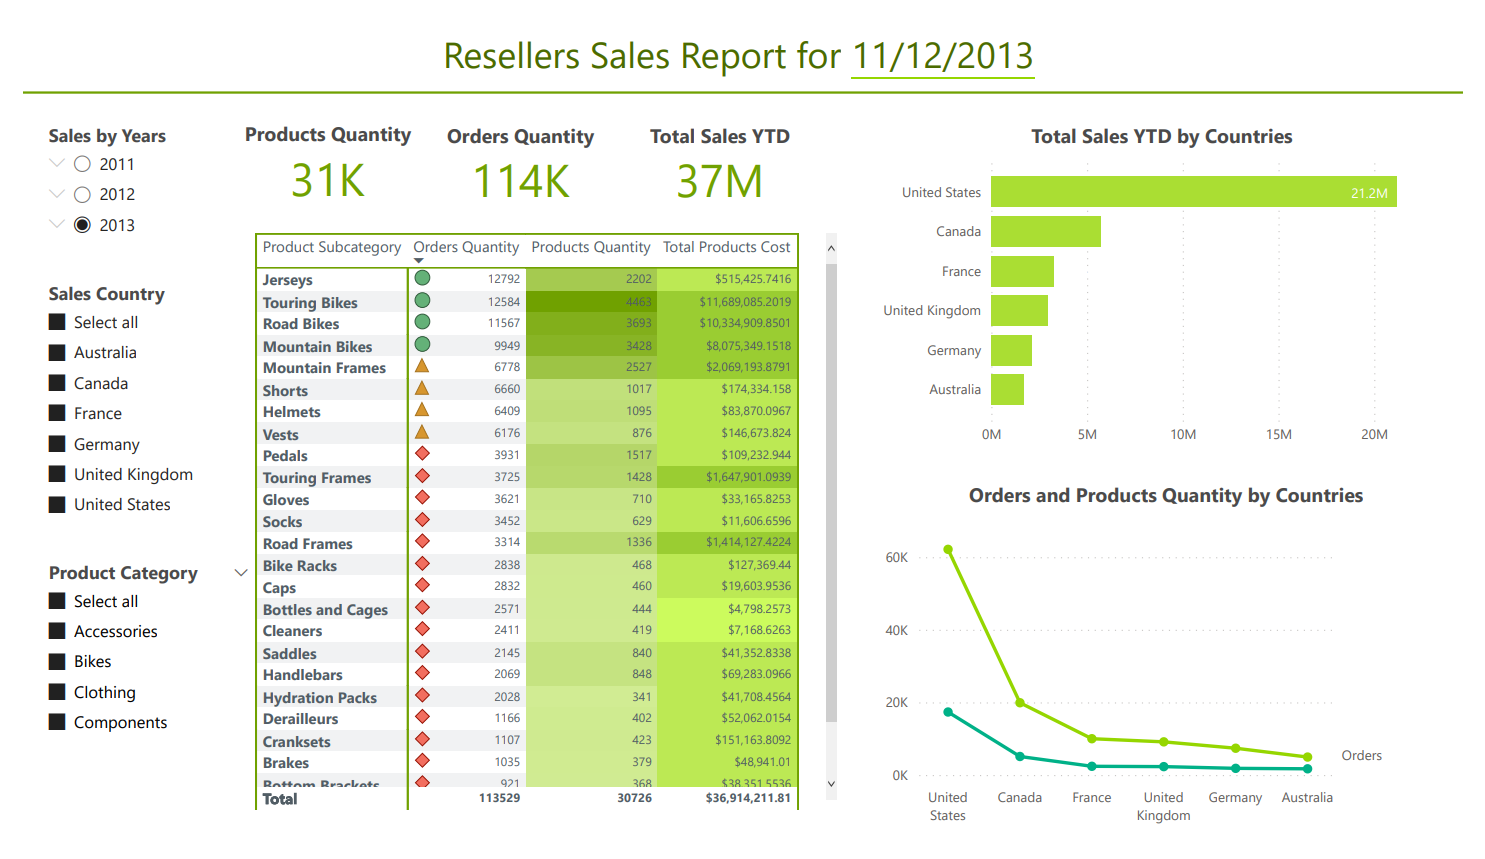

Layout of this report page (visuals, bound fields, positions):
{"tool":"powerbi","page":{"name":"Page 1","canvas":[1280,720],"ordinal":0},"visuals":[{"type":"slicer","fields":{"Values":["Calendar.Date.Variation.Date Hierarchy.Year1","Calendar.Date.Variation.Date Hierarchy.Month"]},"box":[9.5,84.4,168.7,140.2],"z":0},{"type":"slicer","fields":{"Values":["DimSalesTerritory_info.SalesTerritoryCountry"]},"box":[9.5,224.6,181.8,230.5],"z":1000},{"type":"slicer","fields":{"Values":["DimProduct_info.EnglishProductCategoryName"]},"box":[9.5,471.7,203.2,183],"z":2000},{"type":"pivotTable","fields":{"Rows":["DimProduct_info.EnglishProductSubcategoryName"],"Values":["MeasuresTable.__TotalOrderQty","MeasuresTable.__ProductsQty","MeasuresTable.__TotalCost"]},"box":[202,181.8,526.3,521.6],"z":3000},{"type":"card","title":"Products Quantity","fields":{"Values":["MeasuresTable.__ProductsQty"]},"box":[191.3,86.7,160.4,79.6],"z":4000},{"type":"card","title":"Orders Quantity","fields":{"Values":["MeasuresTable.__TotalOrderQty"]},"box":[362.4,87.9,160.4,79.6],"z":5000},{"type":"lineChart","title":"Orders and Products Quantity by Countries","fields":{"Category":["DimSalesTerritory_info.SalesTerritoryCountry"],"Y":["FactResellerSales_info.__TotalOrderQty","FactResellerSales_info.__ProductsQty"]},"box":[752.7,406.5,527.3,312.9],"z":6000},{"type":"card","title":"Total Sales YTD","fields":{"Values":["FactResellerSales_info.__TotalSalesYTD"]},"box":[539.4,87.9,160.4,79.6],"z":7000},{"type":"textbox","box":[362.2,0,548.2,61.6],"z":8000},{"type":"clusteredBarChart","title":"Total Sales YTD by Countries","fields":{"Y":["FactResellerSales_info.__TotalSalesYTD"],"Category":["DimSalesTerritory_info.SalesTerritoryCountry"]},"box":[752.7,87.5,519.9,295.7],"z":9000},{"type":"shape","box":[0,46.8,1280,29.6],"z":10000}]}

Visuals, with their boxes in screenshot pixels (x1, y1, x2, y2), scaled from the page's 1280x720 canvas onto the 1485x859 screenshot:
slicer - Calendar.Date.Variation.Date Hierarchy.Year1 x Calendar.Date.Variation.Date Hierarchy.Month: select_region(11, 101, 207, 268)
slicer - DimSalesTerritory_info.SalesTerritoryCountry: select_region(11, 268, 222, 543)
slicer - DimProduct_info.EnglishProductCategoryName: select_region(11, 563, 247, 781)
pivotTable - DimProduct_info.EnglishProductSubcategoryName x MeasuresTable.__TotalOrderQty: select_region(234, 217, 845, 839)
"Products Quantity" card: select_region(222, 103, 408, 198)
"Orders Quantity" card: select_region(420, 105, 607, 200)
"Orders and Products Quantity by Countries" lineChart: select_region(873, 485, 1484, 858)
"Total Sales YTD" card: select_region(626, 105, 812, 200)
textbox: select_region(420, 0, 1056, 73)
"Total Sales YTD by Countries" clusteredBarChart: select_region(873, 104, 1476, 457)
shape: select_region(0, 56, 1484, 91)
